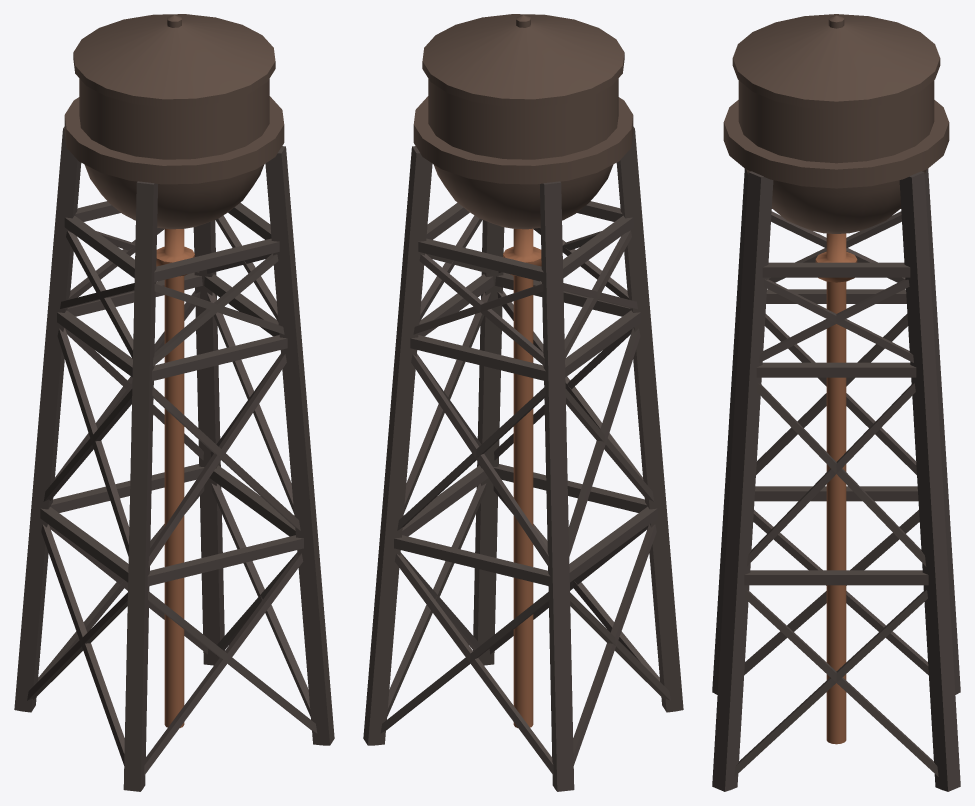
3 renders of one model, left to right at view 1: azimuth 30°, elevation 25°; view 2: azimuth 150°, elevation 25°; view 3: azimuth 270°, elevation 25°, orthographic. The views are drawn at different scales.
Parts seen in each view (by area): view 1: camp-north-end-water-tower; view 2: camp-north-end-water-tower; view 3: camp-north-end-water-tower.
Part boxes in pixels (bbox=[...]): camp-north-end-water-tower: bbox=[14, 14, 334, 791]; camp-north-end-water-tower: bbox=[363, 14, 683, 791]; camp-north-end-water-tower: bbox=[712, 14, 960, 791].
Size of the model in its own units: 12.47 by 40.1 by 12.47.
